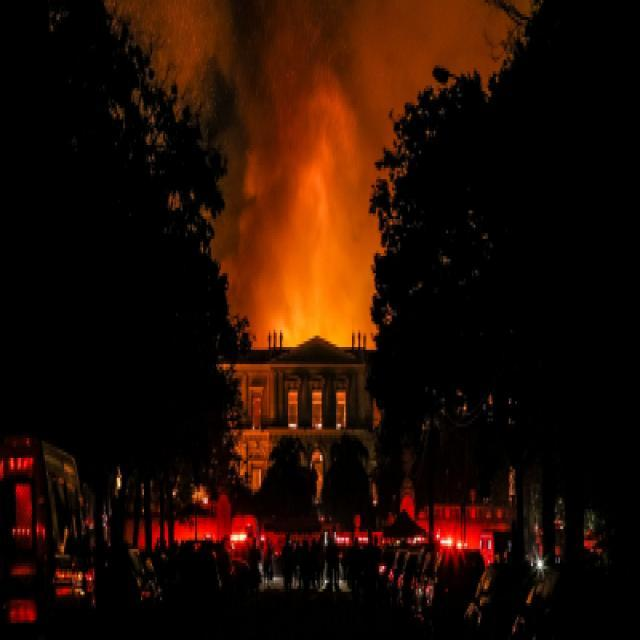Smoke: (257, 52, 384, 344)
